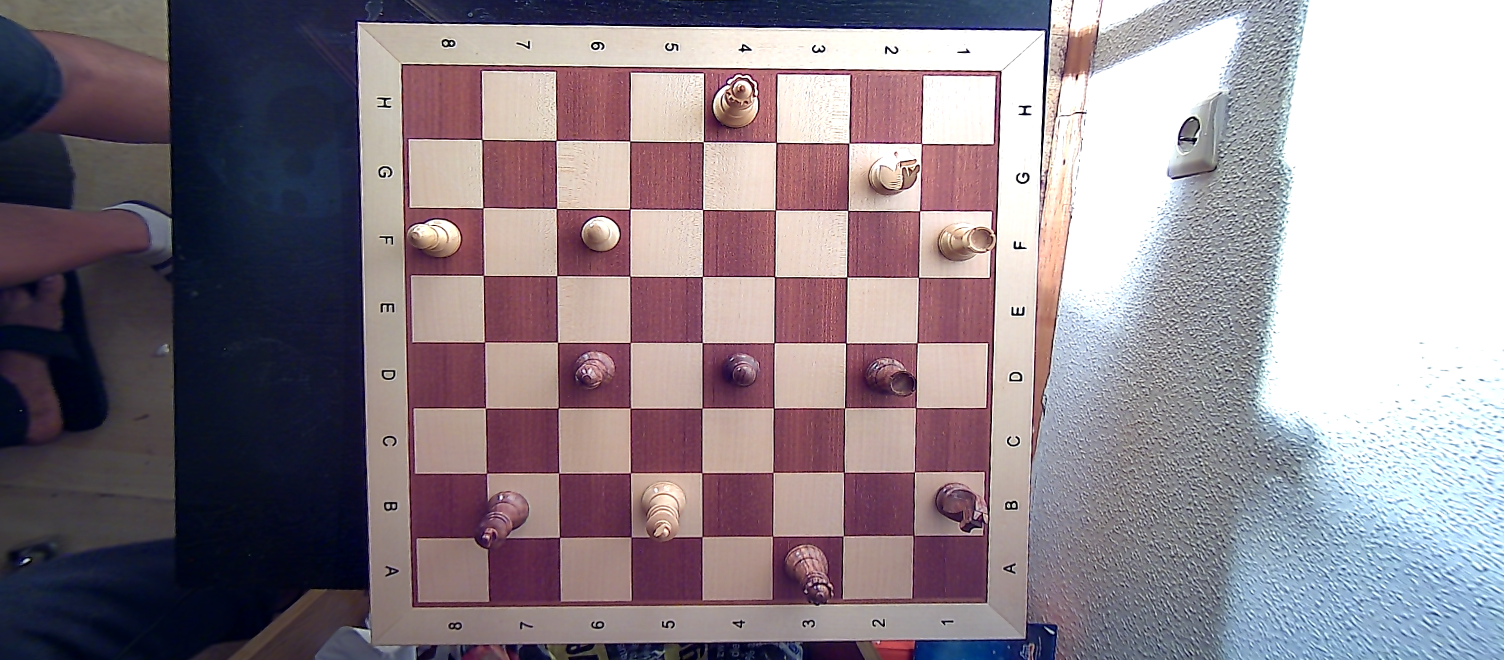black-bishop: (568, 346, 617, 392)
black-king: (471, 488, 532, 554)
black-knight: (930, 477, 992, 539)
black-pawn: (719, 350, 761, 390)
black-queen: (781, 542, 837, 600)
black-rook: (862, 354, 918, 403)
white-bishop: (405, 214, 465, 261)
white-king: (639, 477, 688, 545)
white-knight: (863, 145, 923, 199)
white-pawn: (578, 215, 624, 257)
white-queen: (710, 73, 764, 127)
white-rook: (933, 218, 999, 265)
